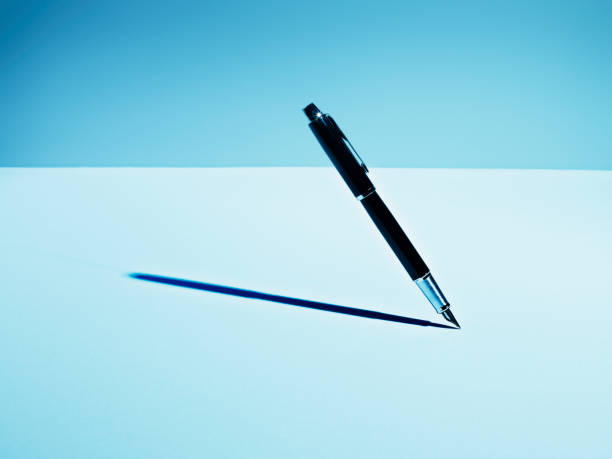pen: (298, 98, 466, 331)
